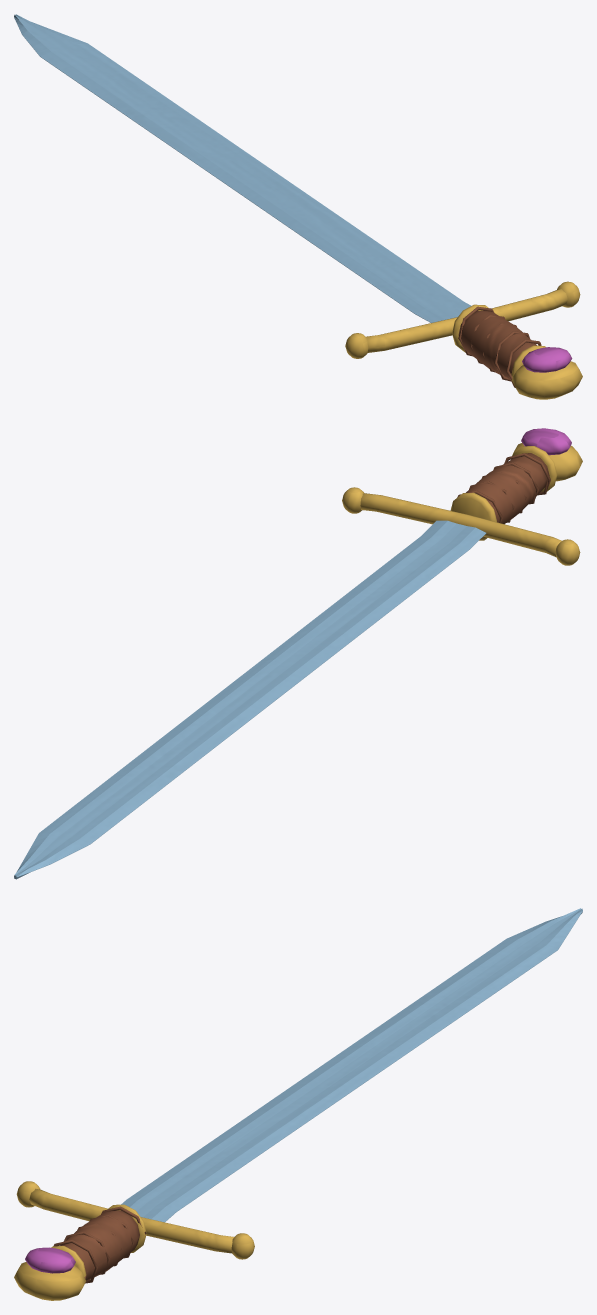
Rendered from item_lsword1.glb.
The picture shows the model from 3 angles, top to bottom: view 1: azimuth 30°, elevation 25°; view 2: azimuth 150°, elevation 25°; view 3: azimuth 330°, elevation 25°; orthographic projection.
Visible parts, largest first — view 1: swords_lsword1; view 2: swords_lsword1; view 3: swords_lsword1.
Boxes of the visible parts, <box> form: swords_lsword1: <box>14,14,582,399</box>; swords_lsword1: <box>14,428,582,879</box>; swords_lsword1: <box>14,908,582,1300</box>.
Size of the model in its own units: 0.3395 by 0.0763 by 1.38.
1 material, 1 textured.
